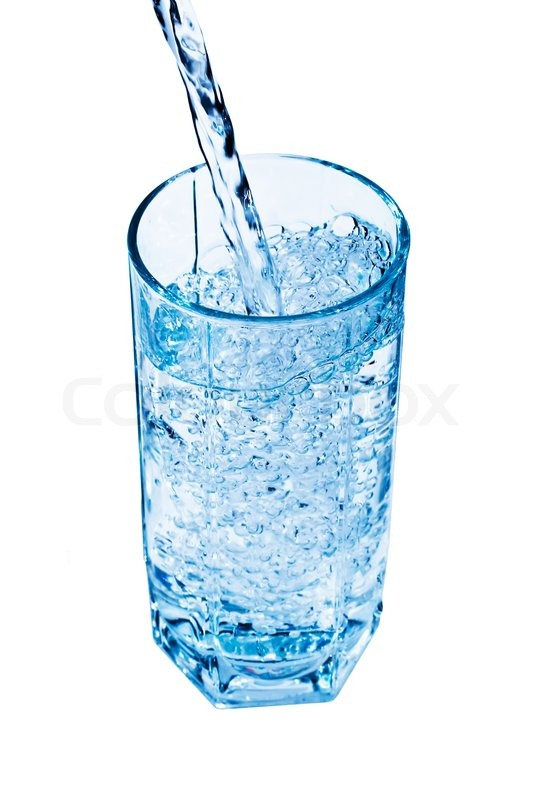glass of water: (127, 156, 409, 703)
